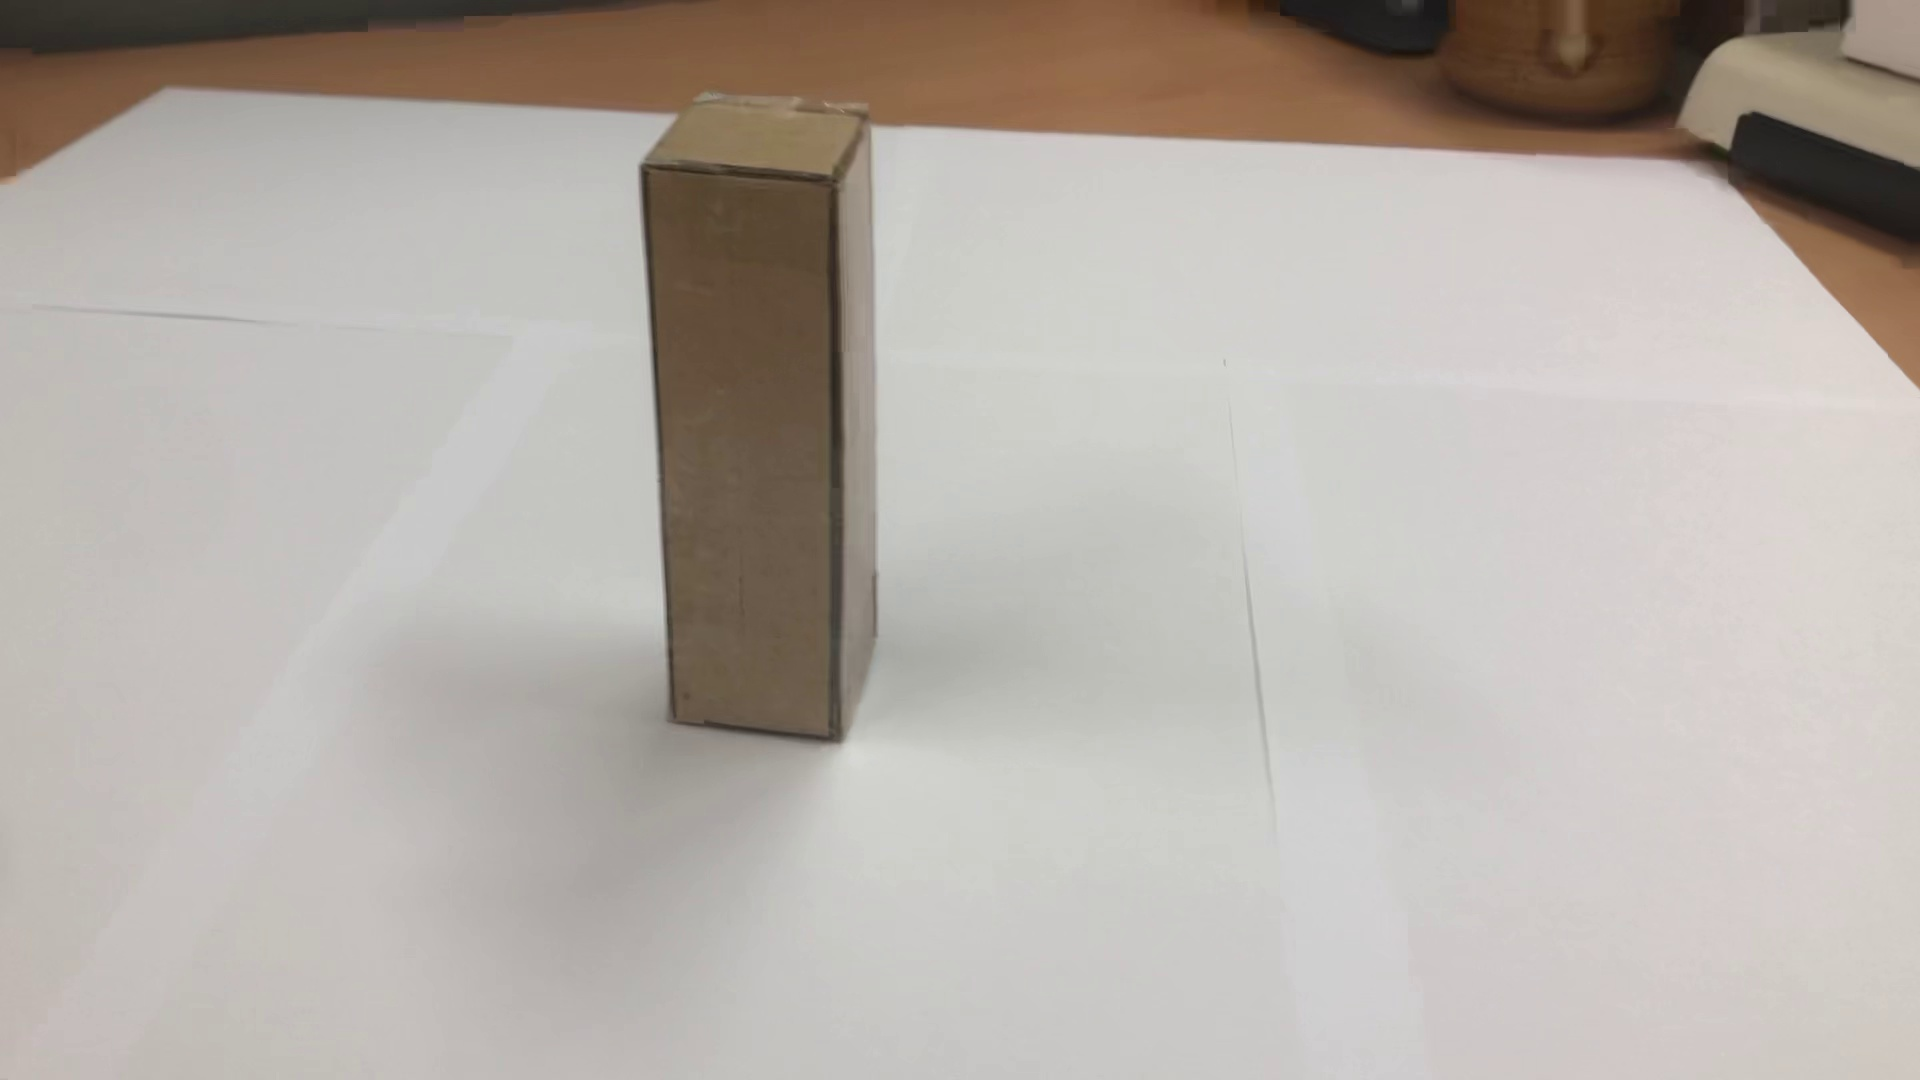box: (630, 73, 909, 773)
